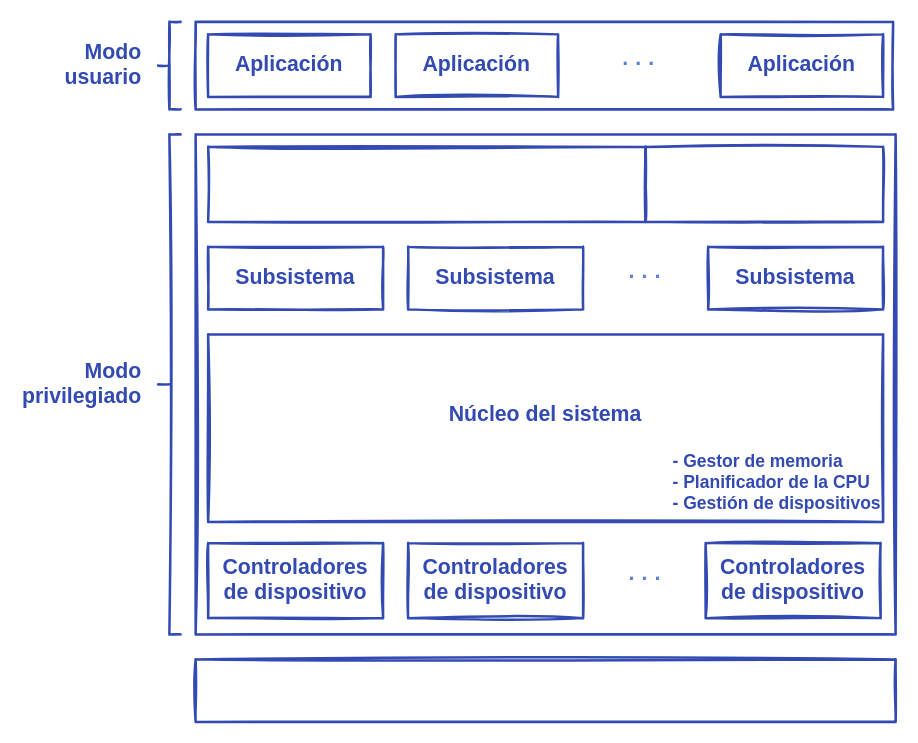
This 918x743 diagram has some shape labels left out. The centre of each missing label's shape, as x and y in pixels:
"Extensiones del API" goes at [764,183].
"Hardware" goes at [545,690].
"Interfaz de programación de aplicaciones (API)" goes at [426,183].
